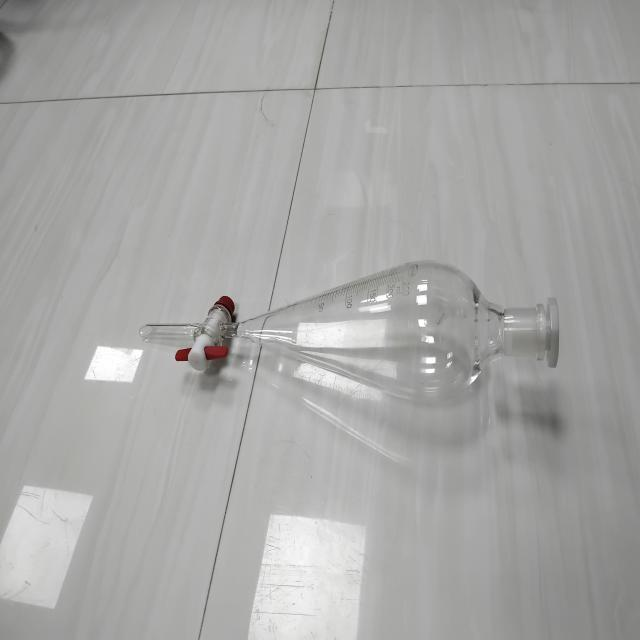Separating_Funnel: (128, 230, 584, 492)
